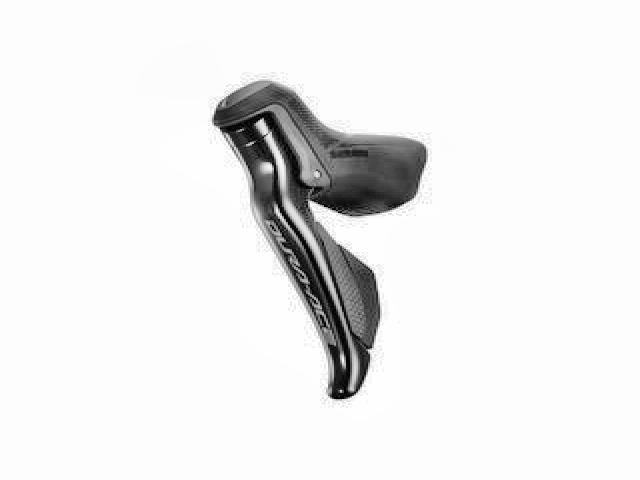sti_shifter: (212, 72, 422, 398)
